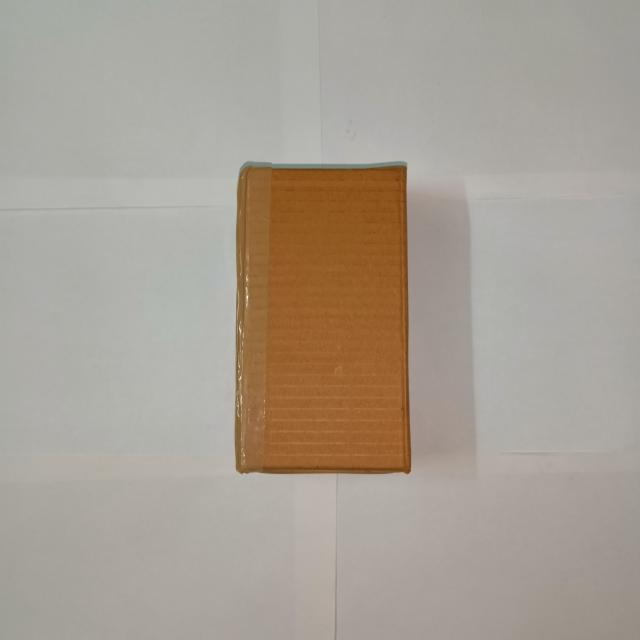box: (234, 164, 414, 478)
